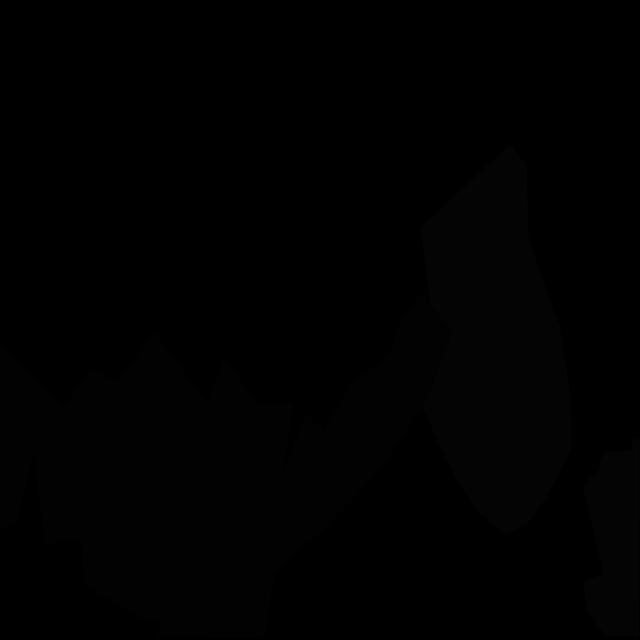cardboard: (0, 292, 453, 639)
soft_plastic: (420, 144, 572, 535), (582, 438, 640, 636)
